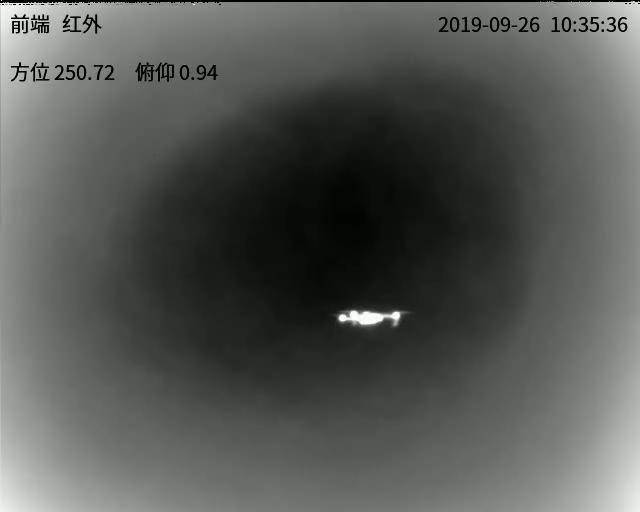uav: (319, 305, 395, 330)
